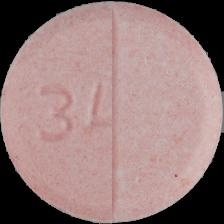0904-3854: (0, 0, 224, 224)
